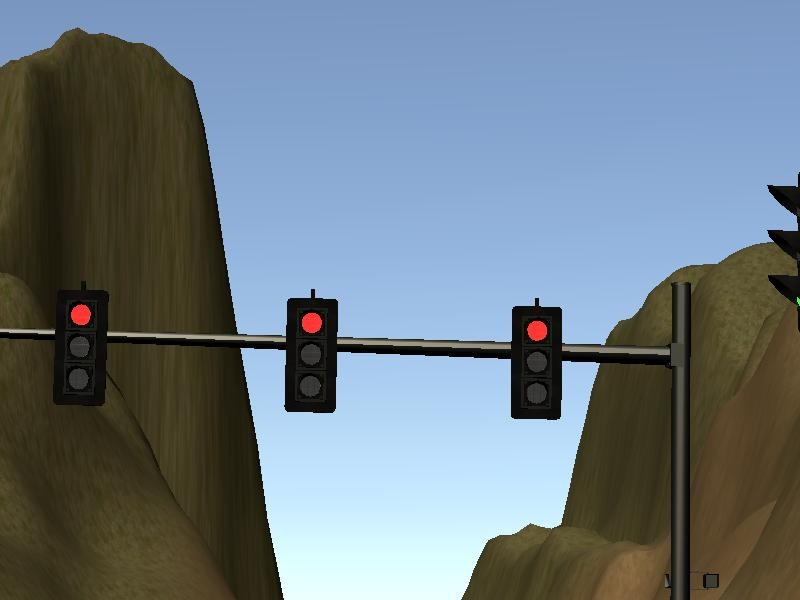RED: (55, 291, 107, 408), (284, 296, 336, 413), (510, 305, 562, 422)
